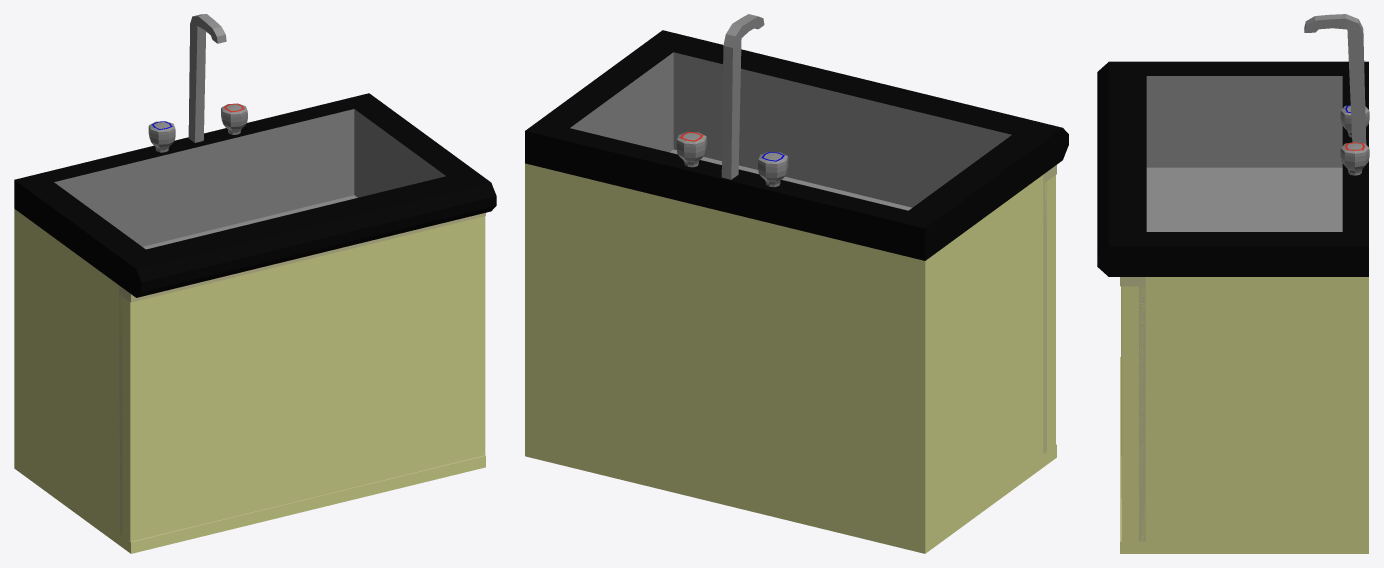
Rendered from lavamanos.fbx.
The picture shows the model from 3 angles, left to right: view 1: azimuth 30°, elevation 25°; view 2: azimuth 150°, elevation 25°; view 3: azimuth 270°, elevation 25°; orthographic projection. The views are drawn at different scales.
Visible parts, largest first — view 1: Lavamanos; view 2: Lavamanos; view 3: Lavamanos.
Boxes of the visible parts, x1,y1,x2,y2 form: Lavamanos: [14, 14, 496, 553]; Lavamanos: [525, 14, 1068, 553]; Lavamanos: [1097, 14, 1369, 553].
Bounding box in the file's own units: 351 × 395 × 219.
